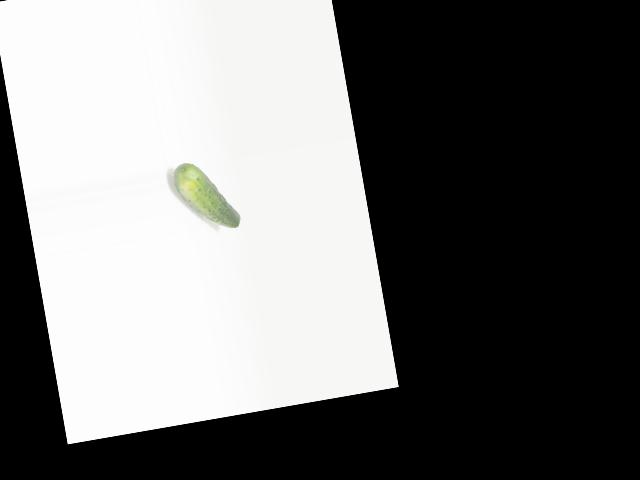cucumber: (172, 156, 241, 237)
